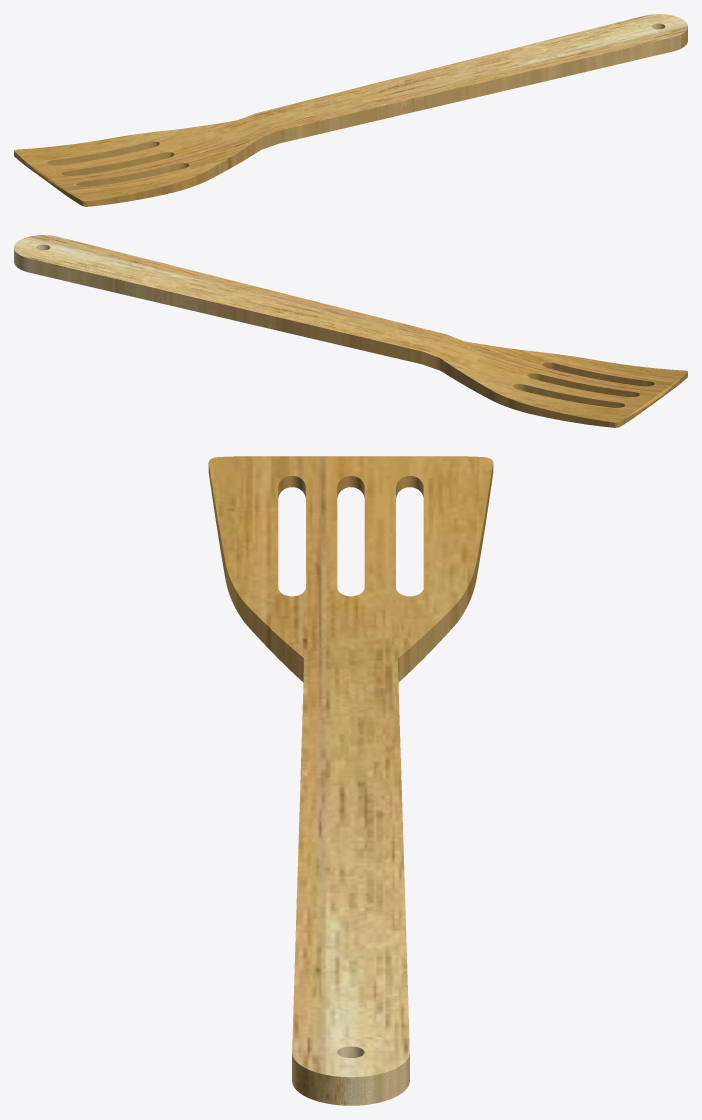
Rendered from turner_07_origin.dae.
The picture shows the model from 3 angles, top to bottom: view 1: azimuth 30°, elevation 25°; view 2: azimuth 150°, elevation 25°; view 3: azimuth 270°, elevation 25°; orthographic projection. The views are drawn at different scales.
Parts seen in each view (by area): view 1: Wooden_Kitchen_Shovel (×4); view 2: Wooden_Kitchen_Shovel (×4); view 3: Wooden_Kitchen_Shovel.
Boxes of the visible parts, left/top/right/bottom form: Wooden_Kitchen_Shovel (×4): left=14, top=14, right=687, bottom=206; Wooden_Kitchen_Shovel (×4): left=14, top=235, right=687, bottom=427; Wooden_Kitchen_Shovel: left=208, top=456, right=493, bottom=1105.
Size of the model in its own units: 16.83 by 3.24 by 0.4591.
2 materials, 2 textured.
